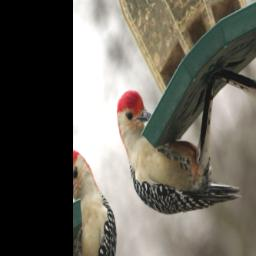Woodpecker: (106, 31, 247, 256)
